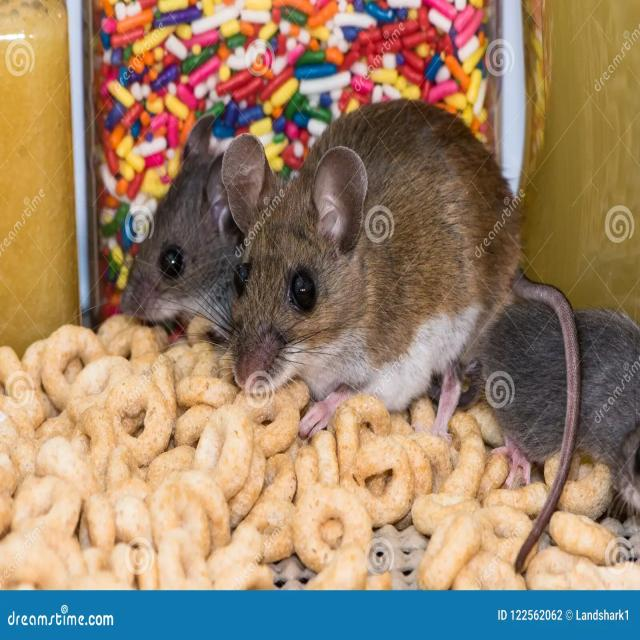rat: (222, 96, 540, 421), (109, 128, 311, 337), (471, 284, 640, 507)
